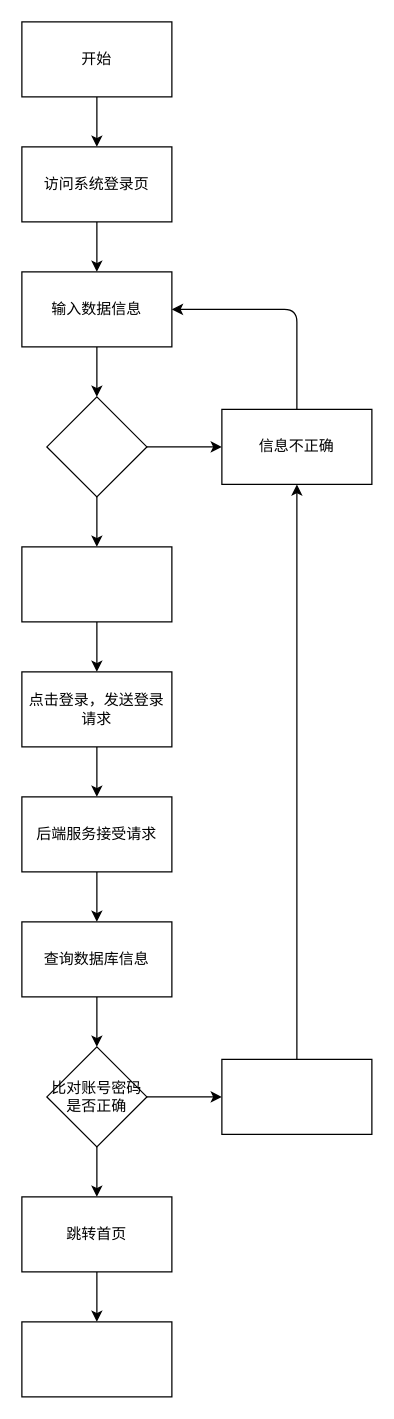
Some shapes in this 394 by 1419 pixel diagram are drawn without their labels. The centre of each missing label's shape, as x and y in pixels:
"合法性判断" goes at (x=96, y=446).
"数据正确" goes at (x=96, y=584).
"结束" goes at (x=96, y=1359).
"账号密码错误" goes at (x=296, y=1096).
